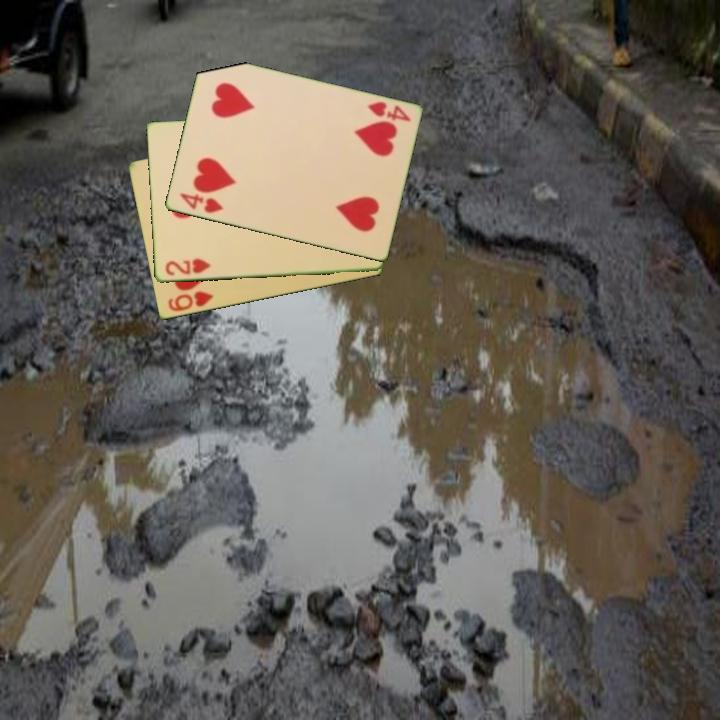2h: (161, 255, 214, 279)
4h: (364, 98, 414, 125), (175, 190, 226, 216)
6h: (164, 288, 216, 315)
